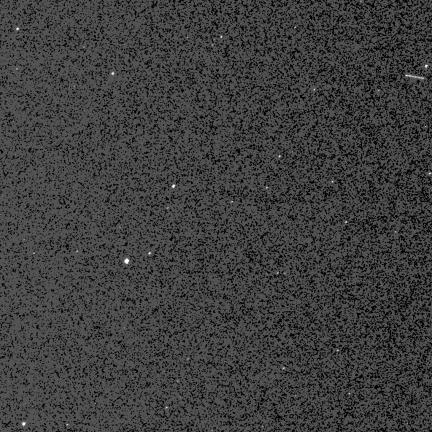blob: (125, 259, 129, 264), (111, 72, 115, 76), (425, 65, 429, 68), (22, 422, 25, 426), (172, 185, 175, 188), (17, 28, 20, 31)
streak: (406, 75, 424, 79)
